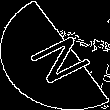N_NE: (16, 25, 94, 85)
